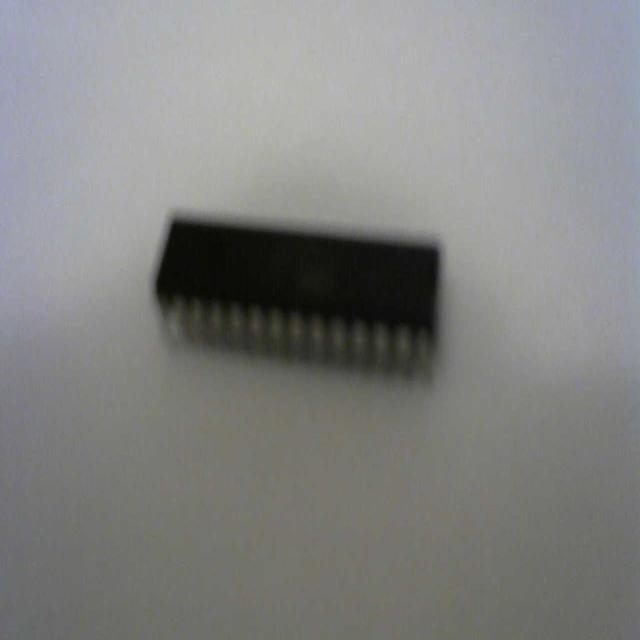atmega: (152, 205, 444, 386)
